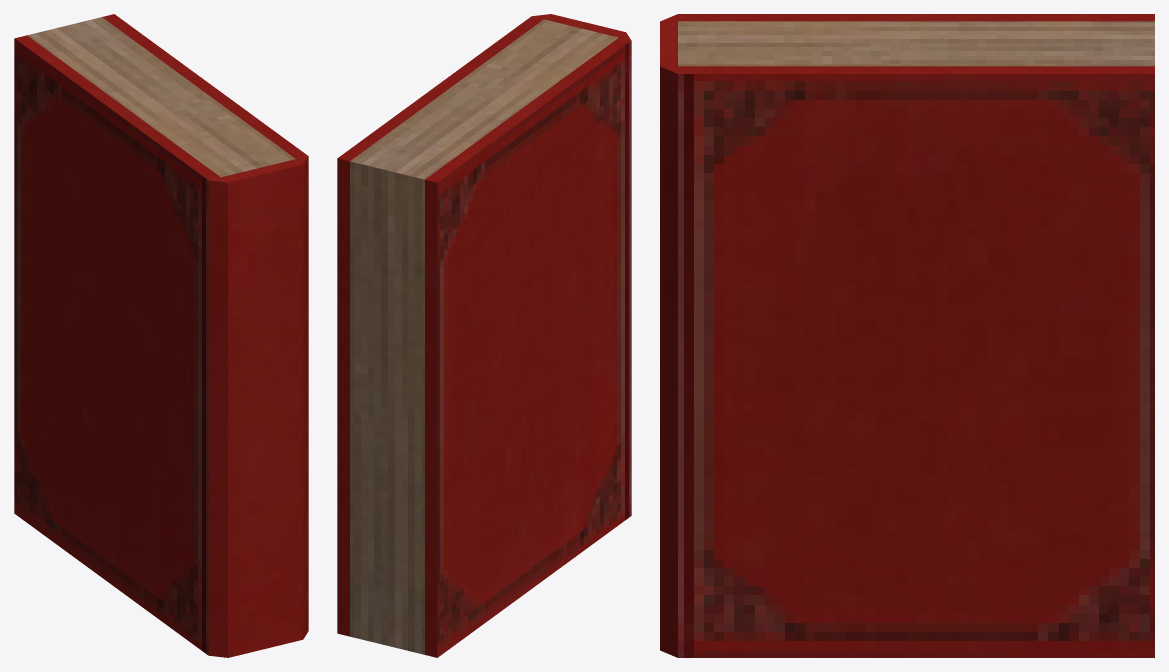
The model's file is book0.glb.
3 views of the same model, side by side, from view 1: azimuth 30°, elevation 25°; view 2: azimuth 150°, elevation 25°; view 3: azimuth 270°, elevation 25° (orthographic). The views are drawn at different scales.
Visible parts, largest first — view 1: book0; view 2: book0; view 3: book0.
Boxes of the visible parts, x1,y1,x2,y2 form: book0: (14, 14, 308, 657); book0: (337, 14, 631, 657); book0: (660, 14, 1154, 657).
Size of the model in its own units: 0.0884 by 0.4017 by 0.3084.
Materials: 1 (1 with a texture image).
